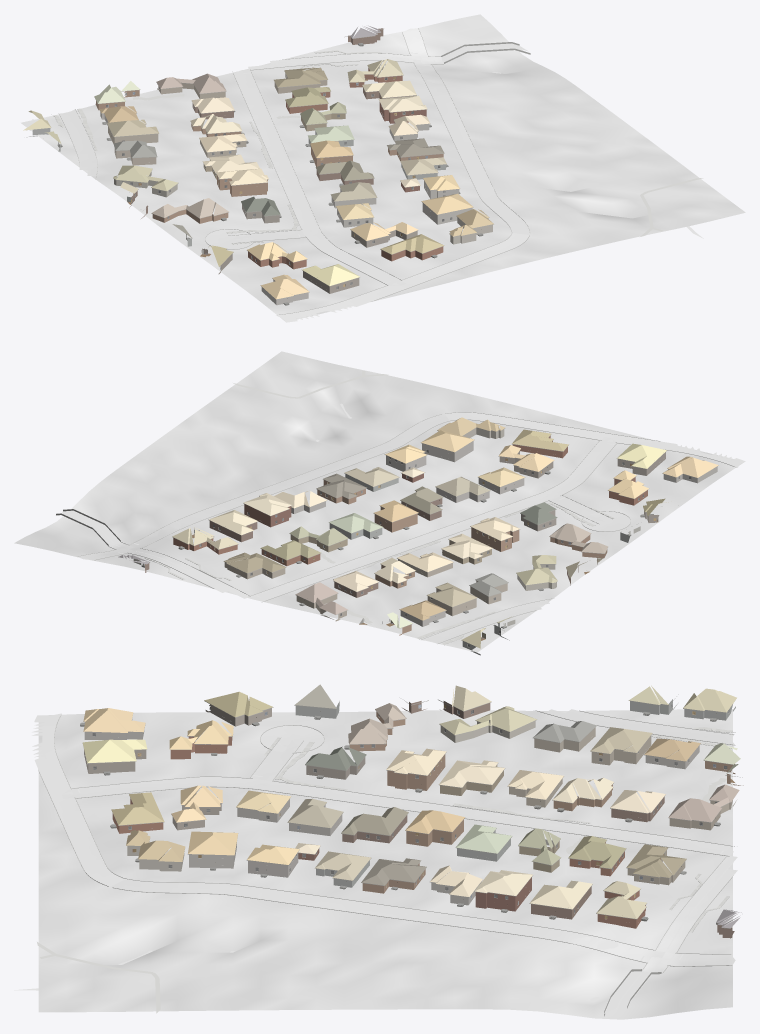
3 views of the same model, one above another, from view 1: azimuth 30°, elevation 25°; view 2: azimuth 150°, elevation 25°; view 3: azimuth 270°, elevation 25° (orthographic). The views are drawn at different scales.
Visible parts, largest first — view 1: ground, roof, concrete, wall, detail, curb, wall_stucco, asphalt, wall_stone, walk; view 2: ground, roof, concrete, wall, curb, detail, wall_stucco, wall_stone, asphalt, walk; view 3: ground, roof, concrete, wall, wall_stucco, curb, detail, wall_stone, asphalt, walk, glass.
Boxes of the visible parts, x1,y1,x2,y2 form: ground: (21,14,745,321); roof: (23,25,493,299); concrete: (59,28,529,322); wall: (95,28,443,293); detail: (30,29,493,305); curb: (54,28,530,314); wall_stucco: (26,126,492,246); asphalt: (248,43,529,69); wall_stone: (100,112,472,305); walk: (53,50,703,244); ground: (14,351,743,652); roof: (118,417,718,648); concrete: (78,412,745,643); wall: (145,436,665,635); curb: (77,412,736,643); detail: (133,425,718,647); wall_stucco: (329,427,630,655); wall_stone: (291,441,717,626); asphalt: (55,510,250,598); walk: (145,371,614,644); ground: (38,709,732,1019); roof: (82,684,741,928); concrete: (32,709,735,966); wall: (84,701,743,938); wall_stucco: (127,699,735,887); curb: (38,710,735,972); detail: (80,694,742,928); wall_stone: (84,719,699,905); asphalt: (604,855,737,1015); walk: (37,727,733,1013); glass: (85,704,729,912).
Size of the model in its own units: 259 by 17.1 by 263.
